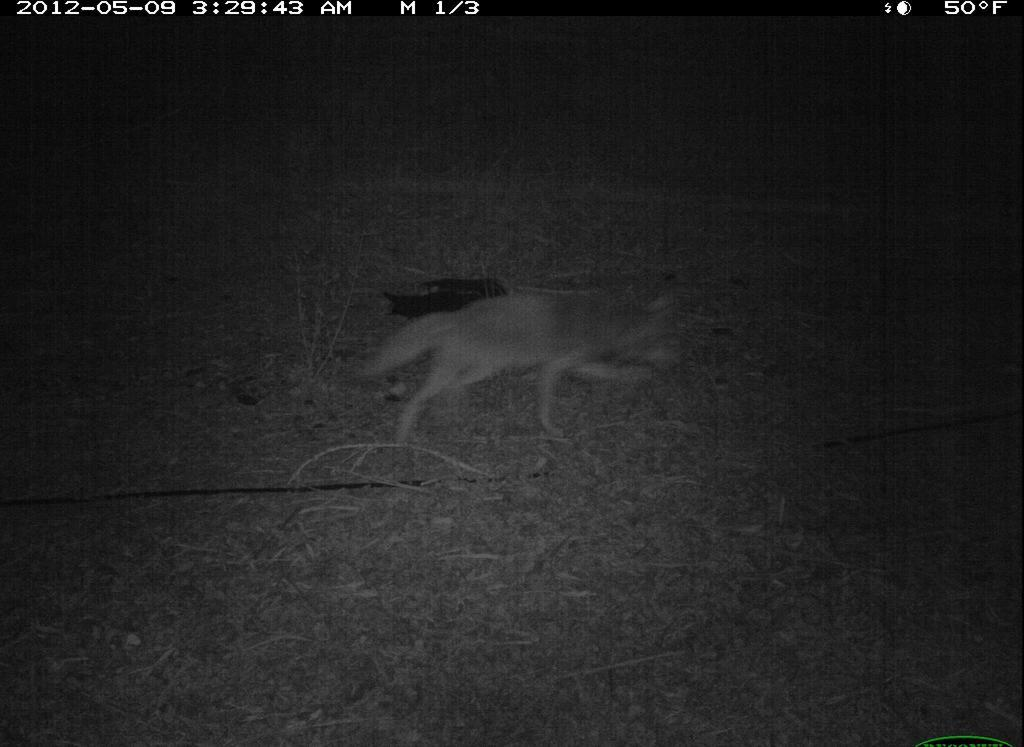coyote: (363, 273, 713, 451)
